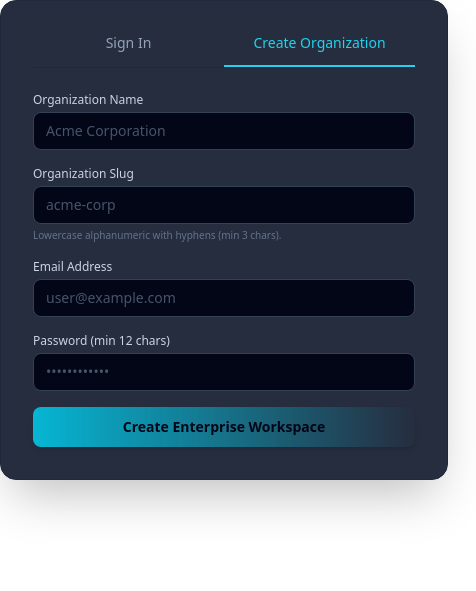
AuthCard Component (A01-R10, A12-R01) › validates organization name and slug in register mode
Type "alice@acme.corp" into the field labelled "Email Address". click: (224, 298)
box: [33, 279, 415, 317]
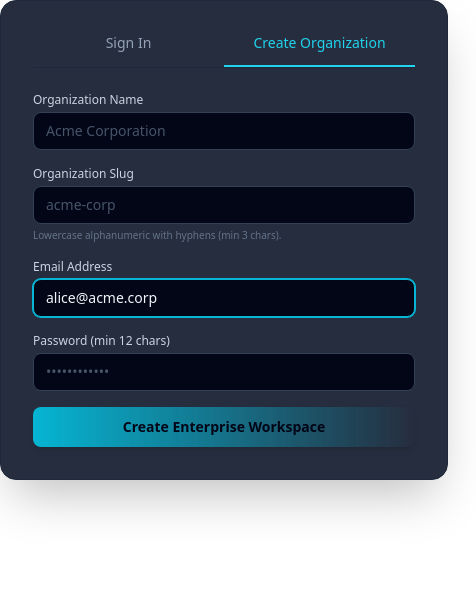
Type "SuperSecurePassword123!" into the password field labelled "Password (min 12 chars)". click: (224, 372)
box: [33, 353, 415, 391]
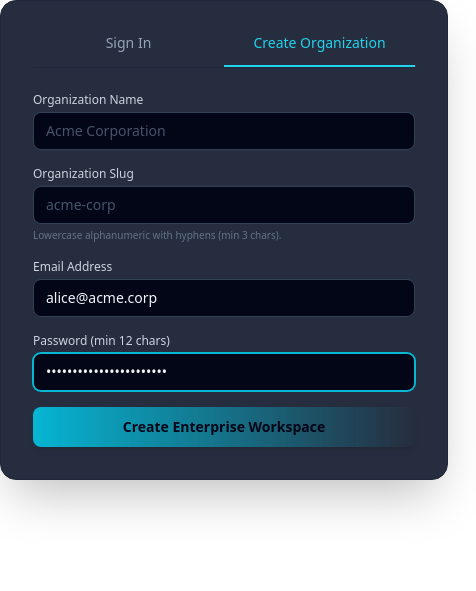
Leave orgName and orgSlug empty
Click the button "Create Enterprise Workspace". click: (224, 427)
box: [33, 407, 415, 447]
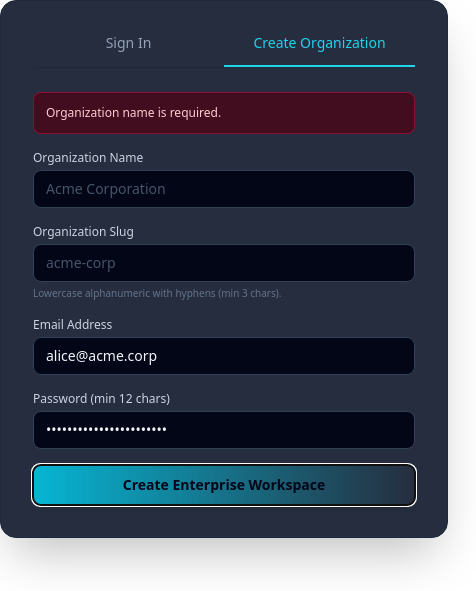
Check: the message shows "Organization name is required", box [46, 104, 221, 121]
